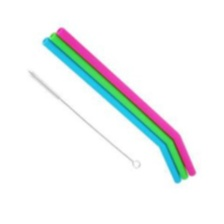drinking_straw: (37, 25, 203, 186)
